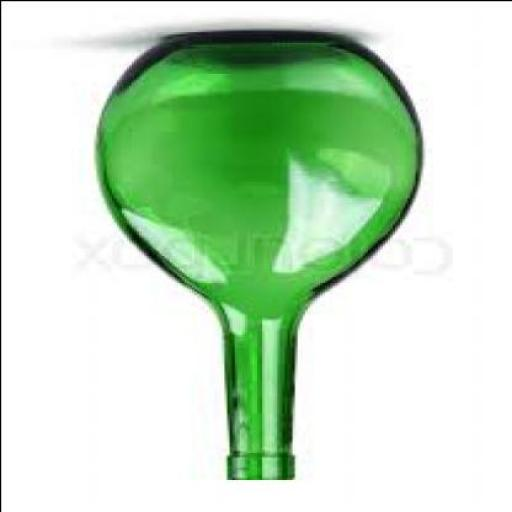glass: (98, 31, 424, 481)
